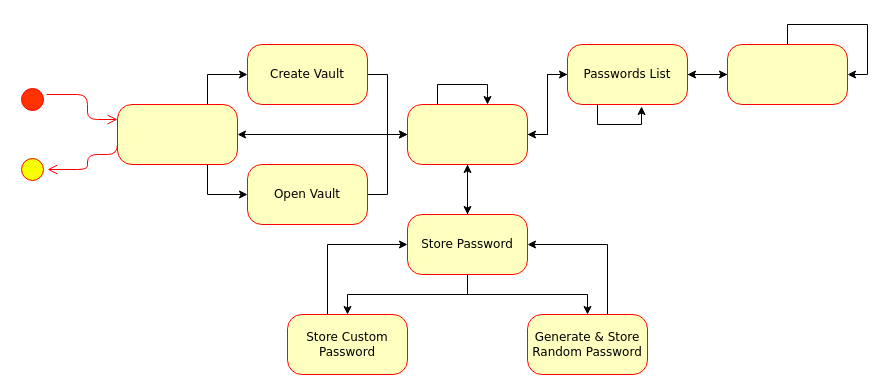
Some shapes in this 893 by 392 pixel diagram are drawn without their labels. The shapes that lost their labels are listed below. From the top down, each one's centre as x and y in pixels, then its label:
the point at 787,74: View Password
the point at 177,134: Welcome
the point at 467,134: Vault Running
